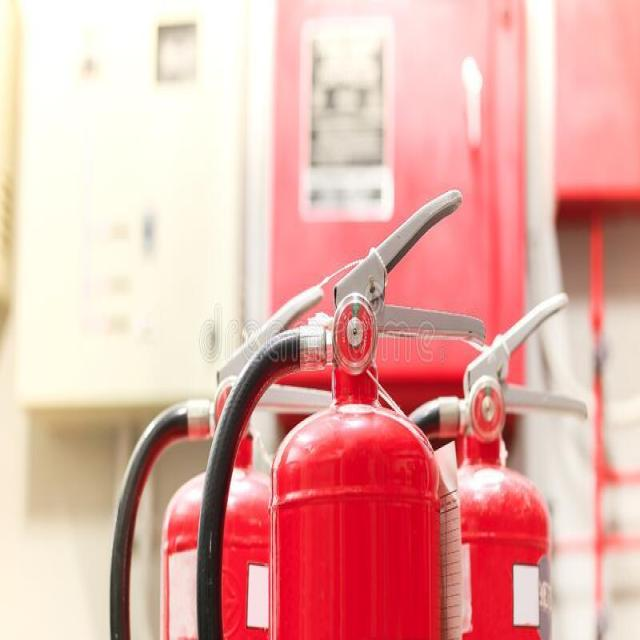fire_extinguisher: (195, 184, 489, 638), (107, 280, 362, 639), (362, 284, 592, 638)
